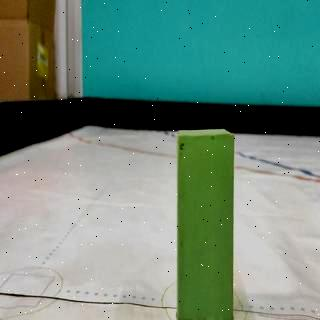greenbox: (174, 129, 236, 320)
